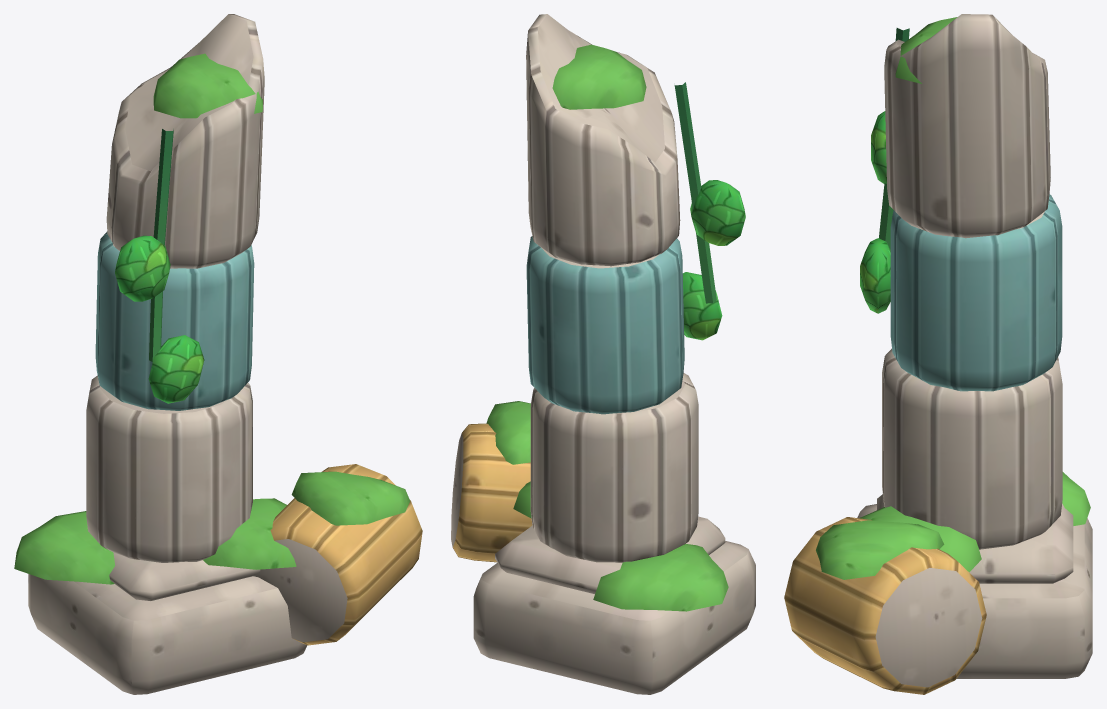
The model's file is ruin_pillar.glb.
3 renders of one model, left to right at view 1: azimuth 30°, elevation 25°; view 2: azimuth 150°, elevation 25°; view 3: azimuth 270°, elevation 25°, orthographic. The views are drawn at different scales.
Parts seen in each view (by area): view 1: ruin_pillar; view 2: ruin_pillar; view 3: ruin_pillar.
Boxes of the visible parts, box(x1,y1,x2,y2) form: ruin_pillar: box(14, 14, 422, 694); ruin_pillar: box(451, 14, 755, 694); ruin_pillar: box(784, 14, 1092, 694).
Size of the model in its own units: 3.04 by 5.29 by 2.23.
3 materials, 3 textured.
